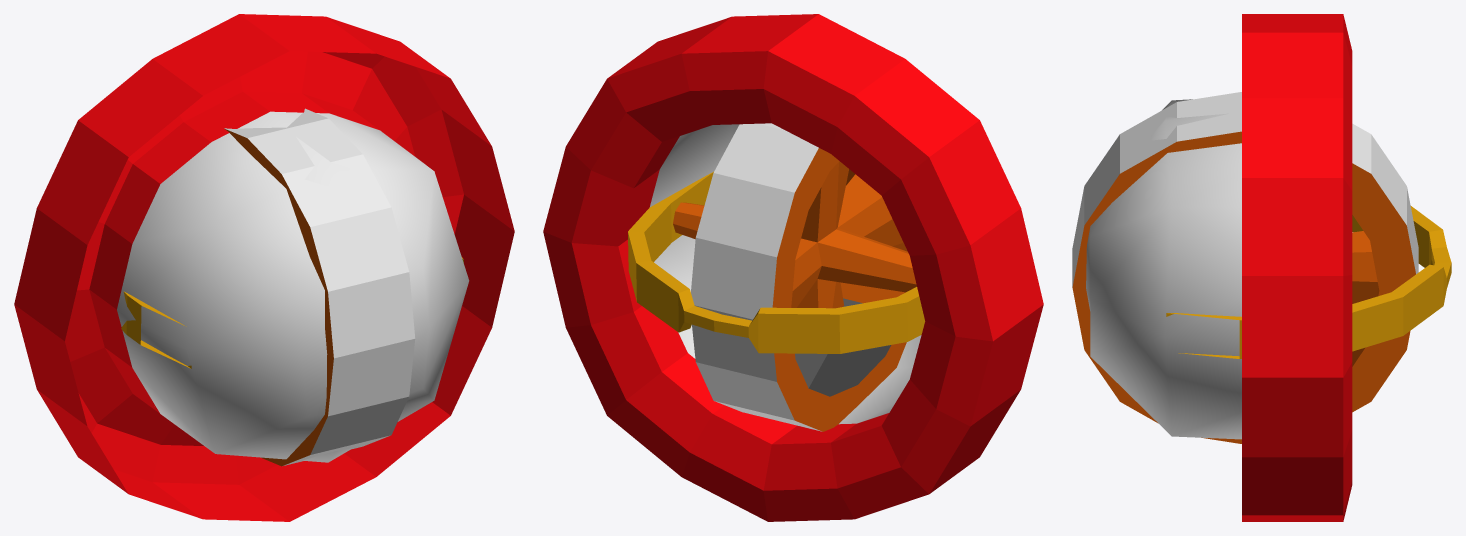
Rendered from gauge-slope.fbx.
3 renders of one model, left to right at view 1: azimuth 30°, elevation 25°; view 2: azimuth 150°, elevation 25°; view 3: azimuth 270°, elevation 25°, orthographic.
Visible parts, largest first — view 1: gauge.slope.case-marker, gauge.slope.spinner; view 2: gauge.slope.case-marker, gauge.slope.spinner; view 3: gauge.slope.case-marker, gauge.slope.spinner.
Part boxes in pixels (box(x1,y1,x2,y2)): gauge.slope.case-marker: box(14, 14, 514, 521); gauge.slope.spinner: box(224, 108, 415, 466); gauge.slope.case-marker: box(543, 14, 1043, 521); gauge.slope.spinner: box(673, 123, 916, 431); gauge.slope.case-marker: box(1086, 14, 1451, 521); gauge.slope.spinner: box(1072, 92, 1418, 443).
Size of the model in its own units: 29.32 by 29.32 by 21.39.
